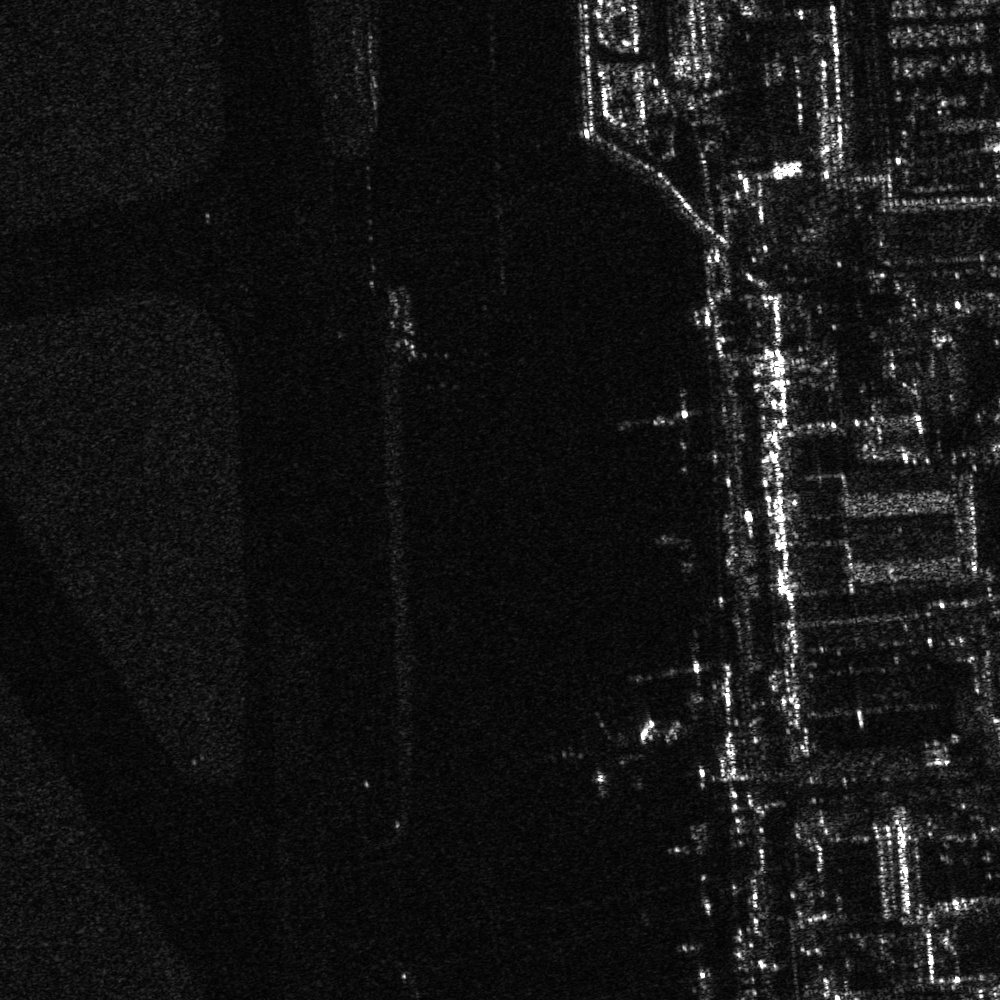A220: (543, 701, 677, 805)
